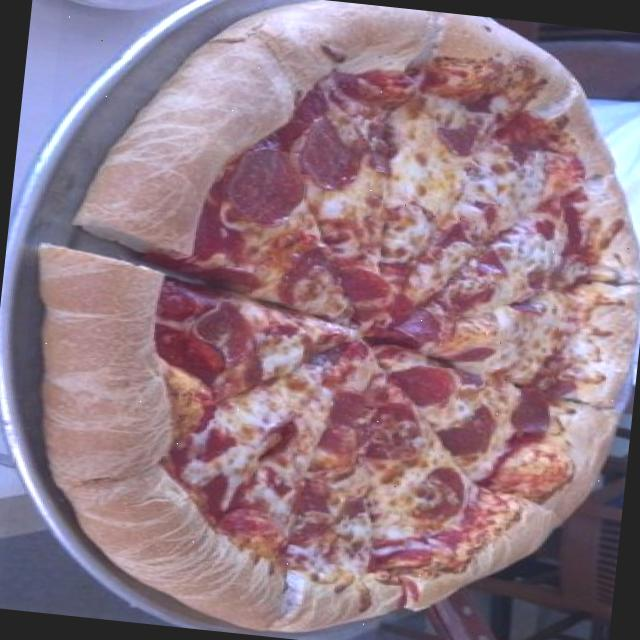cheese: (219, 348, 338, 454), (426, 379, 522, 472), (381, 143, 473, 218), (482, 301, 560, 384), (497, 230, 560, 280), (494, 176, 532, 223)
pepperoni: (220, 145, 308, 225), (296, 111, 369, 189), (188, 294, 262, 370), (314, 388, 381, 462), (276, 243, 341, 314), (408, 464, 476, 526), (286, 479, 347, 545), (432, 404, 497, 464), (388, 362, 462, 414), (332, 255, 402, 308), (508, 379, 558, 451), (430, 107, 492, 164), (213, 498, 279, 550), (300, 332, 362, 380), (467, 240, 521, 284), (365, 406, 403, 467), (390, 306, 442, 346), (446, 278, 498, 318), (364, 115, 399, 173), (434, 339, 502, 368)
pizza: (36, 0, 637, 633)
